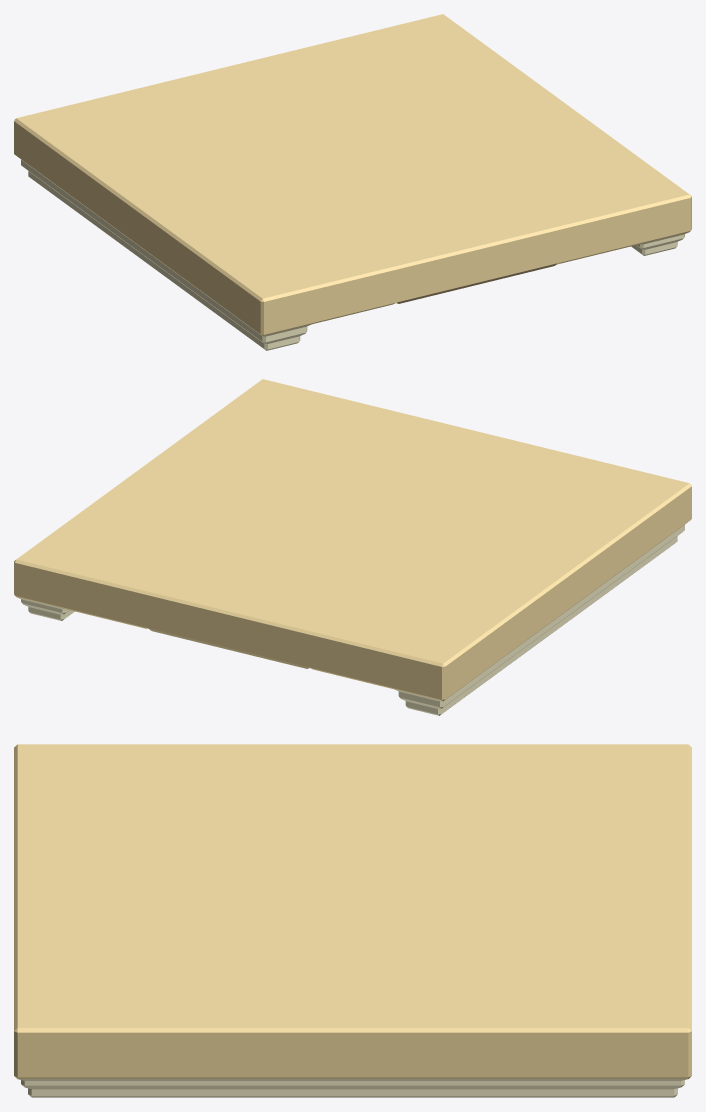
File: Teto.fbx
3 renders of one model, top to bottom at view 1: azimuth 30°, elevation 25°; view 2: azimuth 150°, elevation 25°; view 3: azimuth 270°, elevation 25°, orthographic. The views are drawn at different scales.
Visible parts, largest first — view 1: Teto; view 2: Teto; view 3: Teto.
Boxes of the visible parts, x1,y1,x2,y2 form: Teto: (14,14,691,350); Teto: (14,379,691,715); Teto: (14,744,691,1097).
Size of the model in its own units: 1440 by 186 by 1440.
